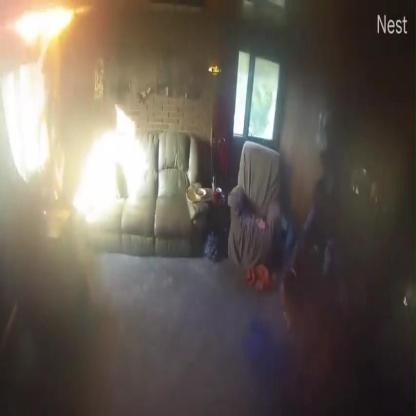fire: (9, 2, 84, 48)
